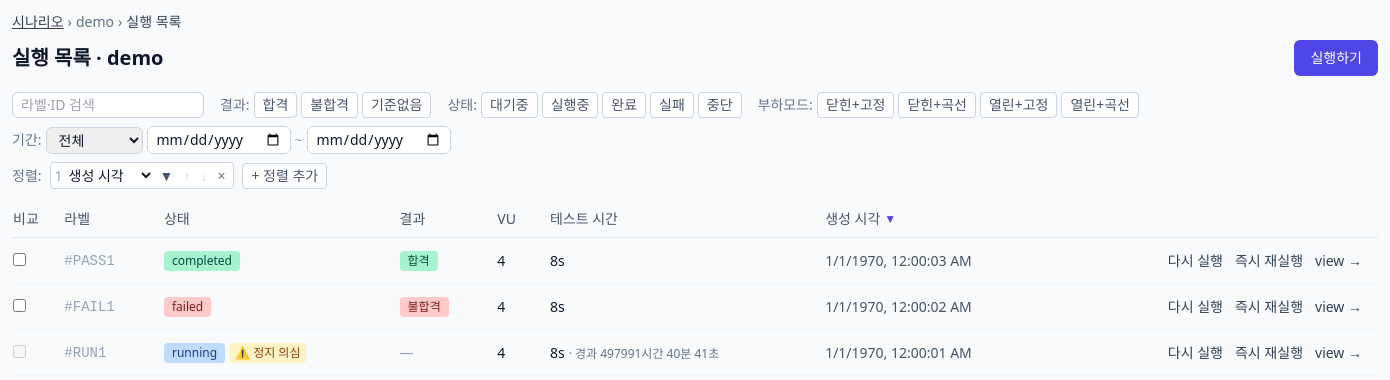
Test case: ScenarioRunsPage — filter/sort (run-list-filter-sort) › shows the filtered empty state when nothing matches (R15)
Click the button "불합격" in the row of "부하모드" at (330, 105), box [301,92,358,118]
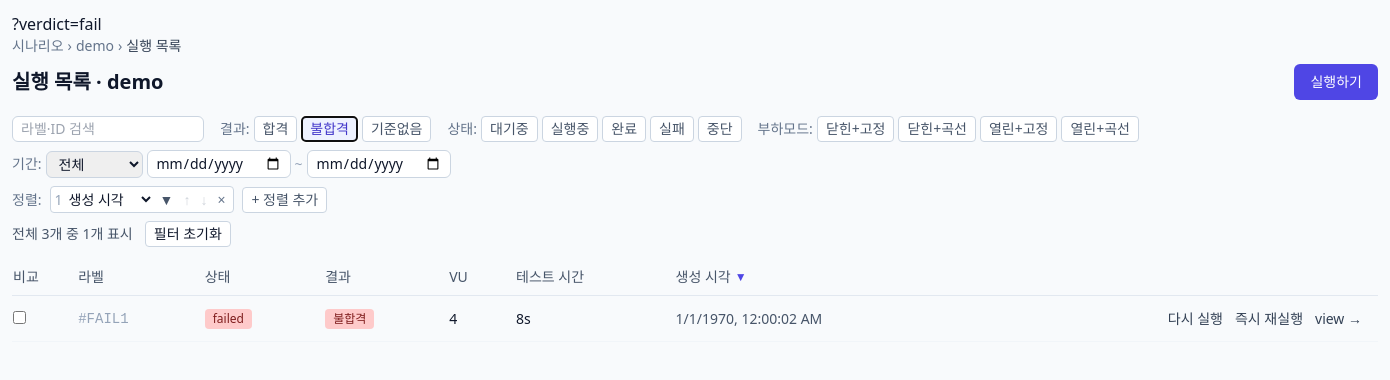
Click the button "완료" at (624, 129), box [602,116,646,142]
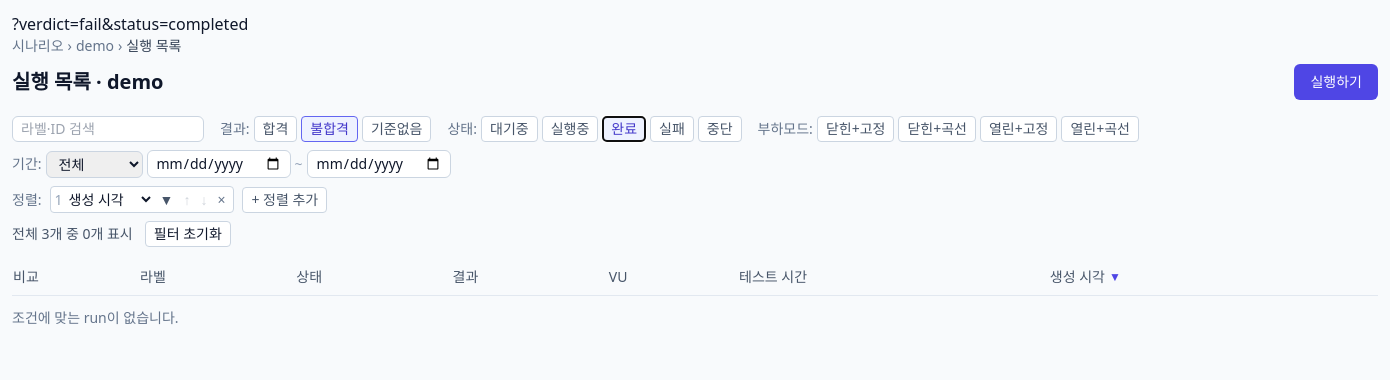
Check: the text "조건에 맞는 run이 없습니다." is shown, box [12,308,179,327]
